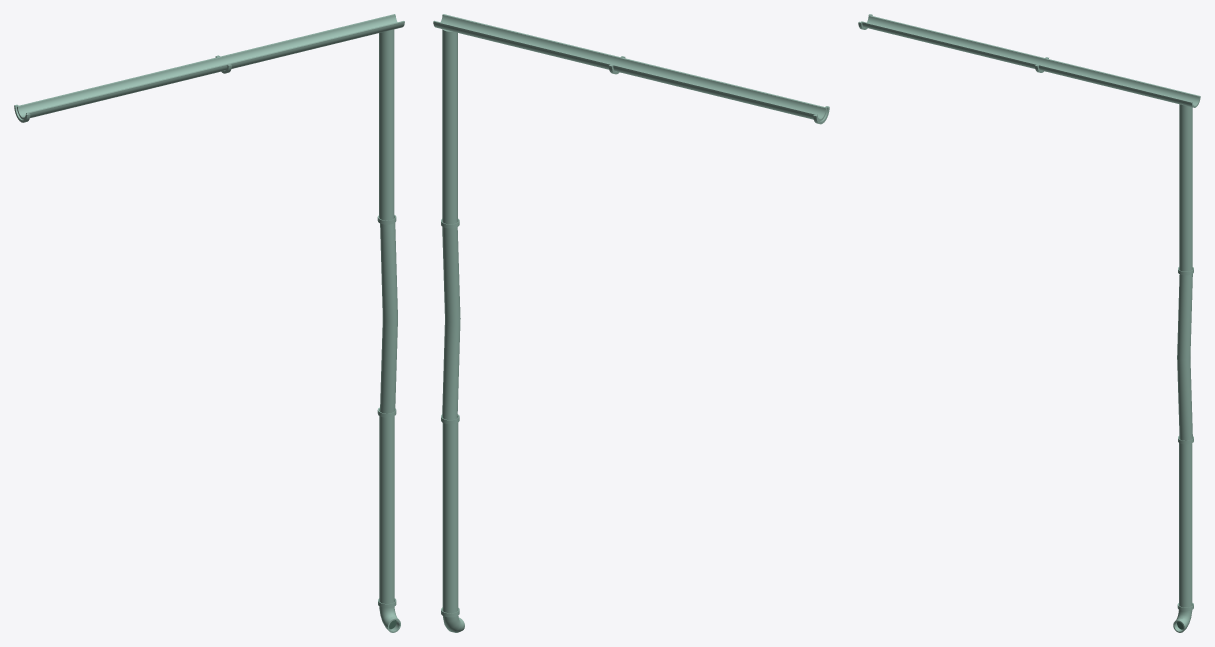
The model's file is Roof Gutter and Drain pipe.fbx.
The picture shows the model from 3 angles, left to right: view 1: azimuth 30°, elevation 25°; view 2: azimuth 150°, elevation 25°; view 3: azimuth 330°, elevation 25°; orthographic projection. The views are drawn at different scales.
Visible parts, largest first — view 1: Cylinder.005; view 2: Cylinder.005; view 3: Cylinder.005.
Part boxes in pixels (<box>): Cylinder.005: <box>14,14,404,632</box>; Cylinder.005: <box>433,14,829,632</box>; Cylinder.005: <box>858,14,1200,632</box>.
Size of the model in its own units: 589 by 901 by 36.87.
